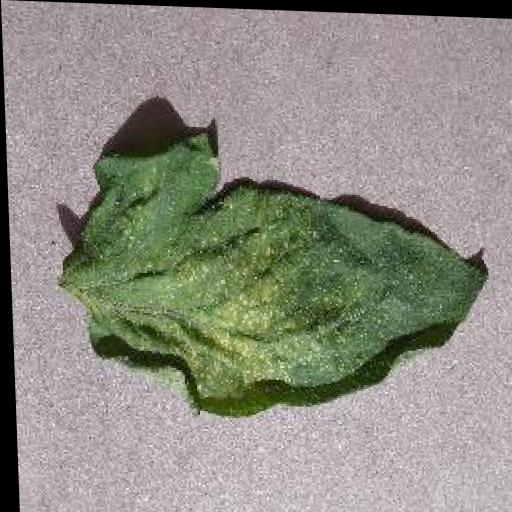Spider Mites: (52, 127, 488, 421)
